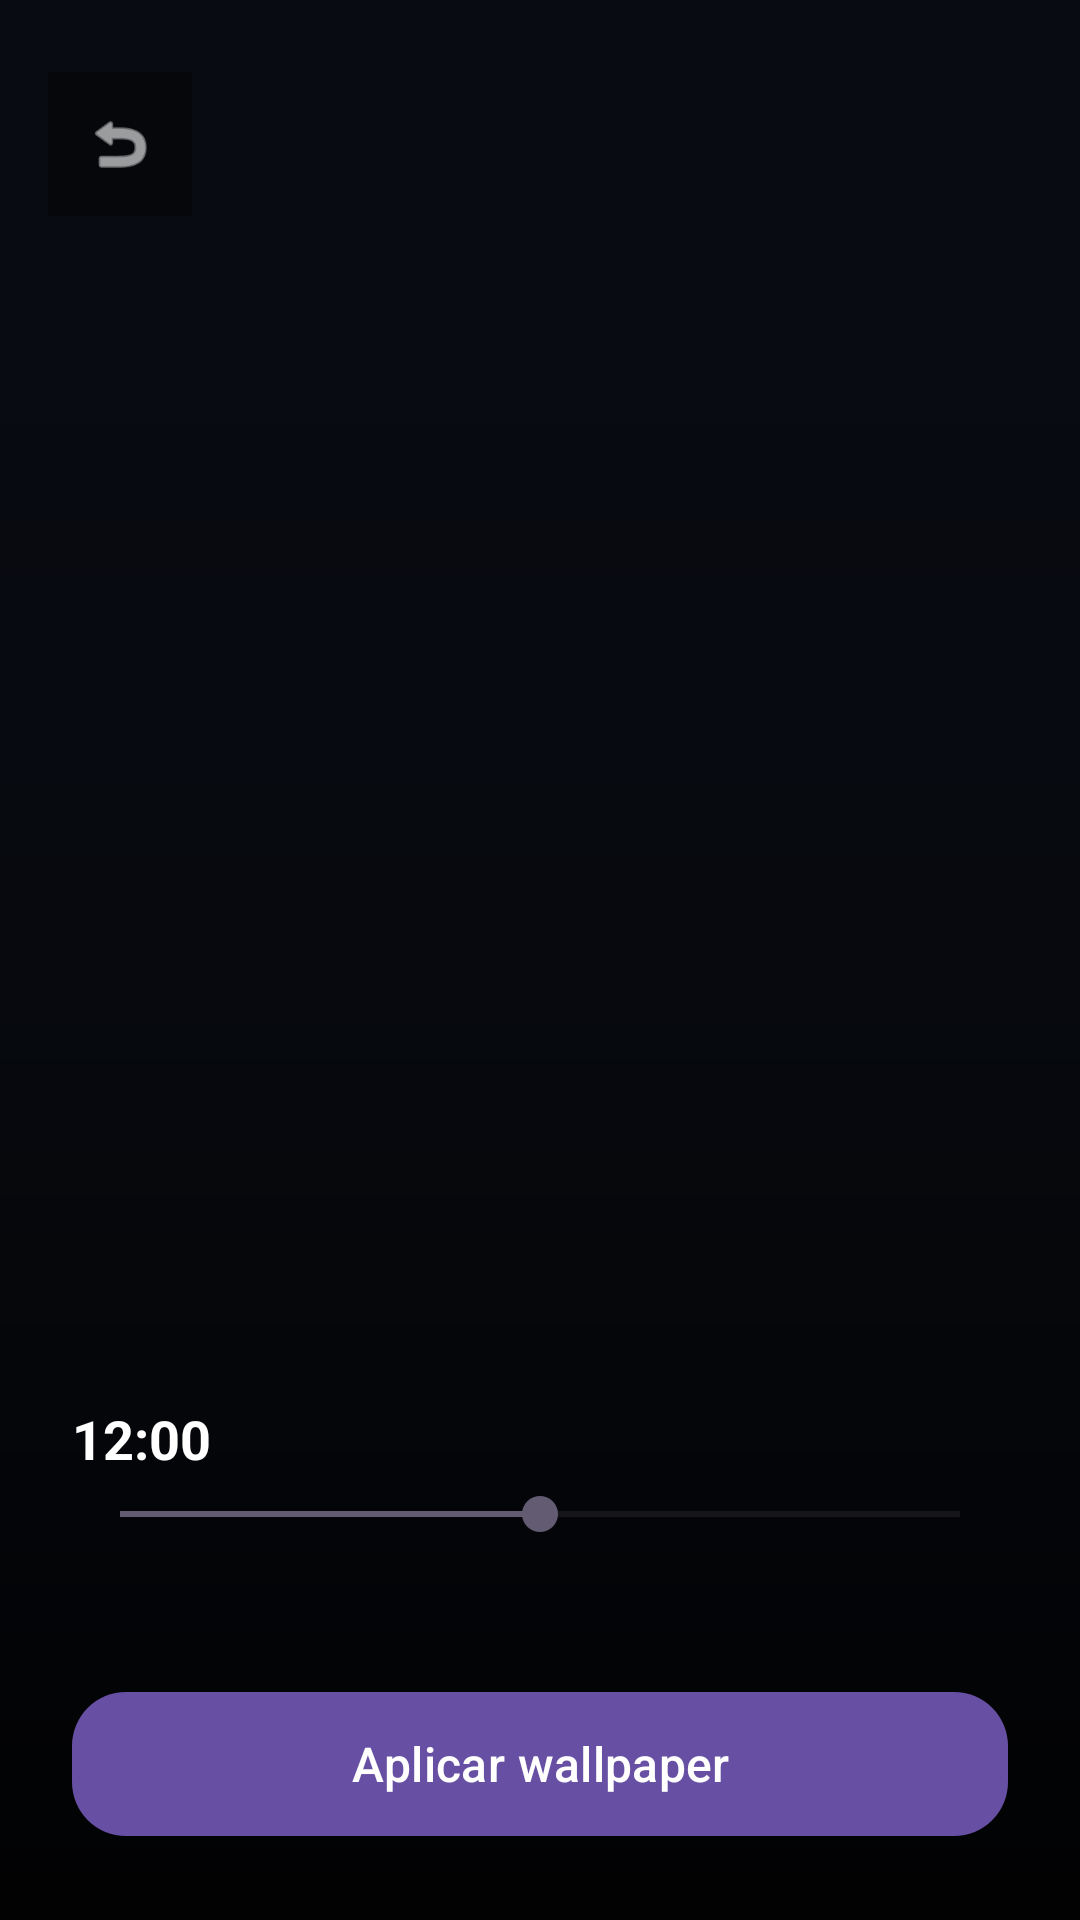

Icons on this 1080 × 1920 Android screen, each with the point to tap as [x,y]:
Volver: [121,144]
